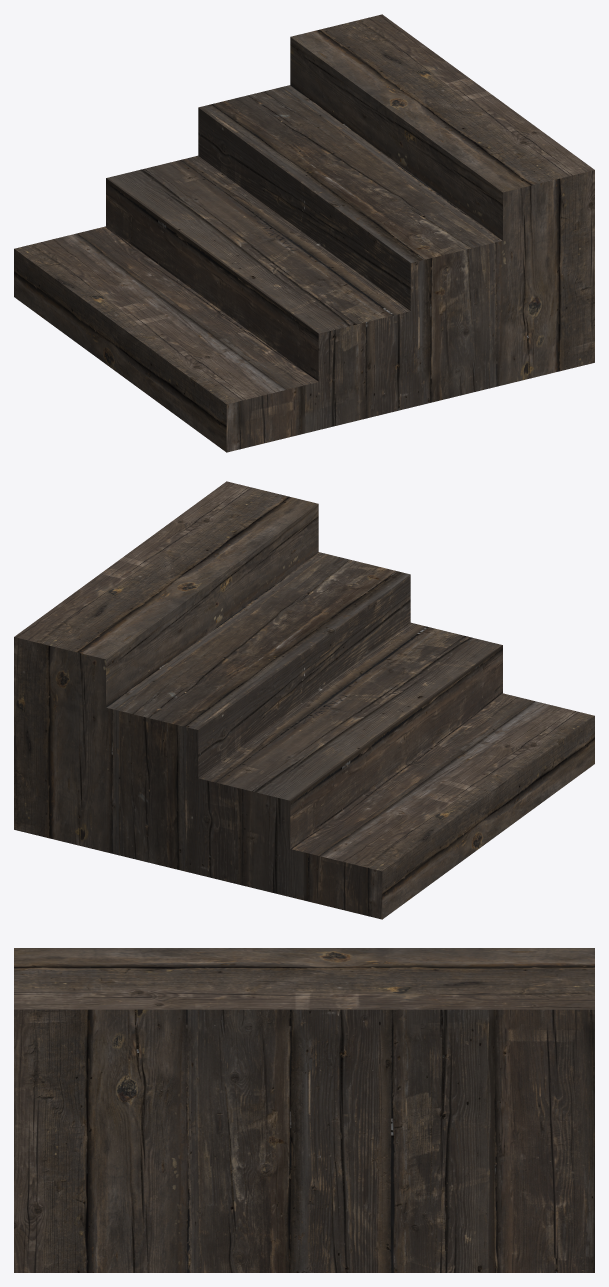
Rendered from Bibliothek_Stair.fbx.
The picture shows the model from 3 angles, top to bottom: view 1: azimuth 30°, elevation 25°; view 2: azimuth 150°, elevation 25°; view 3: azimuth 270°, elevation 25°; orthographic projection. The views are drawn at different scales.
Visible parts, largest first — view 1: Bibliothek_Stair; view 2: Bibliothek_Stair; view 3: Bibliothek_Stair.
Boxes of the visible parts, <box> form: Bibliothek_Stair: <box>14,14,594,452</box>; Bibliothek_Stair: <box>14,481,594,919</box>; Bibliothek_Stair: <box>14,948,594,1272</box>.
Size of the model in its own units: 200 by 100 by 200.
